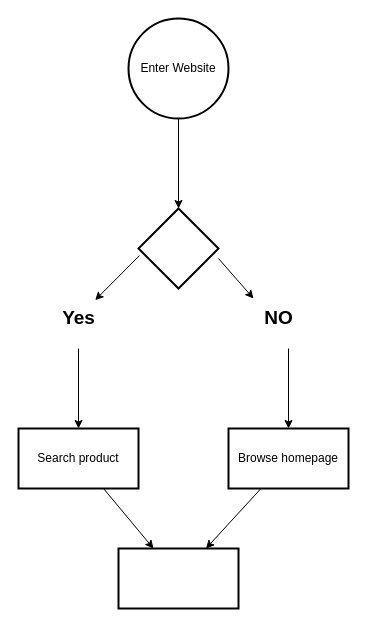
Image size: 366x626. Some labels were removed from this diagram. The shapes that lost their labels are listed below. From the top down, each one's centre as x and y in pixels, then its label:
At point 178,248: "Search for product?".
At point 178,578: "View product".
